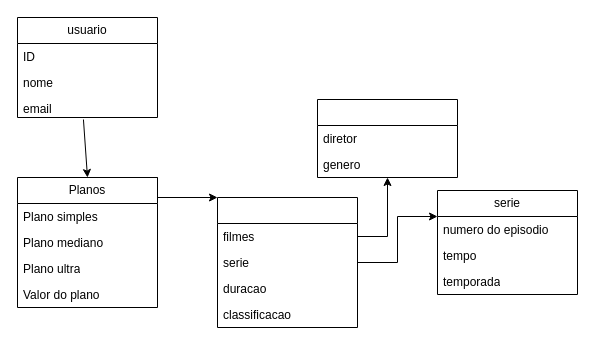
This 595x348 diagram has some shape labels left out. Here are the shapes that lost their labels. From the top down, the box of each, then its label:
(316, 98, 458, 178): filme
(216, 196, 358, 328): midias
